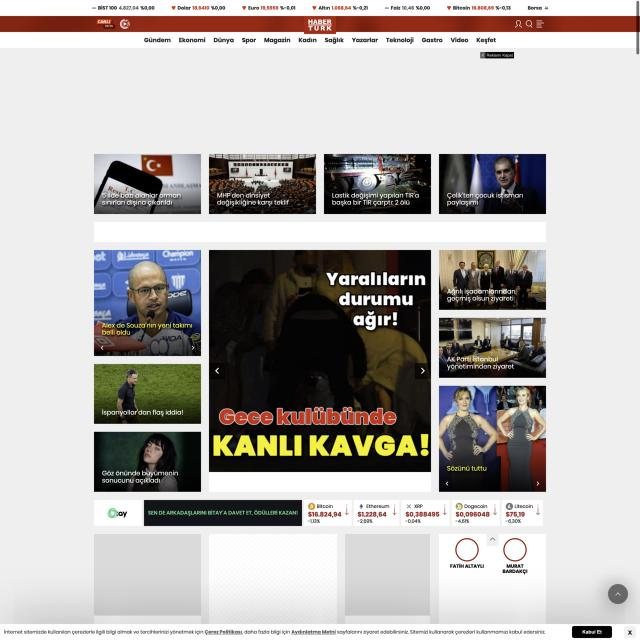CheckBox: (572, 625, 612, 639), (624, 626, 636, 638)
Input field: (331, 191, 421, 208), (100, 191, 184, 208), (446, 191, 525, 209), (101, 321, 194, 336), (216, 190, 290, 208), (101, 469, 178, 486), (100, 407, 185, 418)
QR code: (88, 0, 550, 16), (304, 499, 544, 527)
RadioButton: (480, 52, 515, 58)
Switch: (94, 249, 201, 356)
bag: (0, 0, 637, 50)
carousel: (514, 19, 522, 30), (536, 20, 546, 28), (419, 366, 426, 374), (526, 20, 532, 29), (190, 345, 196, 352), (214, 367, 220, 374), (615, 591, 622, 597), (100, 344, 104, 351)
copy: (209, 249, 431, 472), (209, 153, 316, 214), (324, 154, 432, 214), (439, 154, 547, 214), (94, 154, 200, 214)
data feed: (581, 629, 603, 635)
date picker: (304, 16, 334, 34)
decoration: (141, 31, 502, 49), (608, 583, 628, 605), (416, 363, 428, 378), (212, 364, 224, 377), (536, 20, 545, 28)
header: (0, 623, 640, 640)
